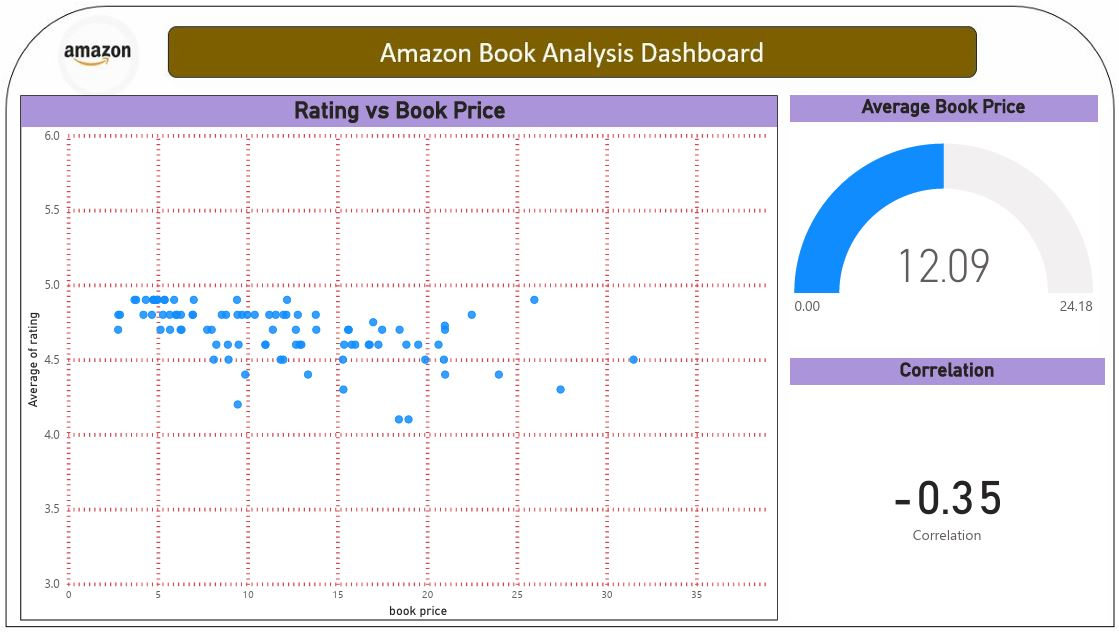

This screenshot's page, from the dashboard's own definition file:
{"tool":"powerbi","page":{"name":"Book Price VS Ratings","canvas":[1280,720],"ordinal":1},"visuals":[{"type":"scatterChart","title":"Rating vs Book Price","fields":{"X":["Merge1.book price"],"Y":["Avg(Merge1.rating)"]},"box":[21.4,107.2,868,601.6],"z":0},{"type":"card","title":"Correlation","fields":{"Values":["Merge1.Correlation"]},"box":[903.2,408.7,359.7,300],"z":1000},{"type":"gauge","title":"Average Book Price","fields":{"Y":["Avg(Merge1.book price)"]},"box":[903.2,107.2,352.1,287.8],"z":1001}]}

Visuals, with their boxes in screenshot pixels (x1, y1, x2, y2), scaled from the page's 1280x720 canvas onto the 1119x632 screenshot:
"Rating vs Book Price" scatterChart: box(19, 94, 778, 622)
"Correlation" card: box(790, 359, 1104, 622)
"Average Book Price" gauge: box(790, 94, 1097, 347)
